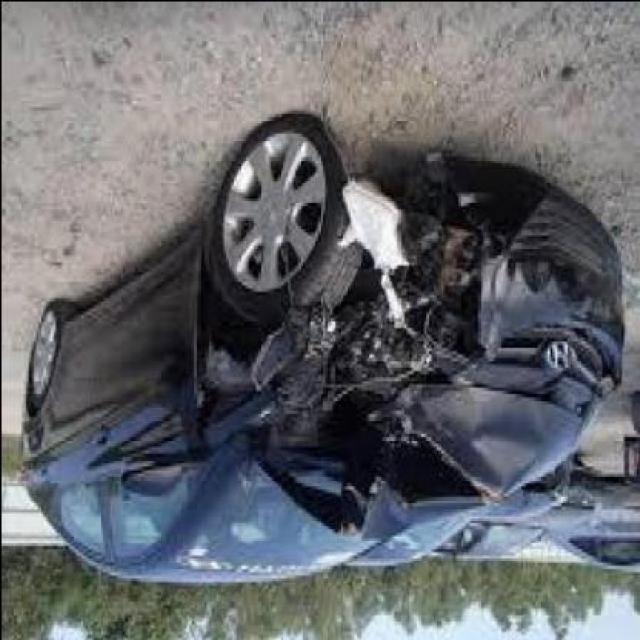damage: (201, 135, 624, 525)
